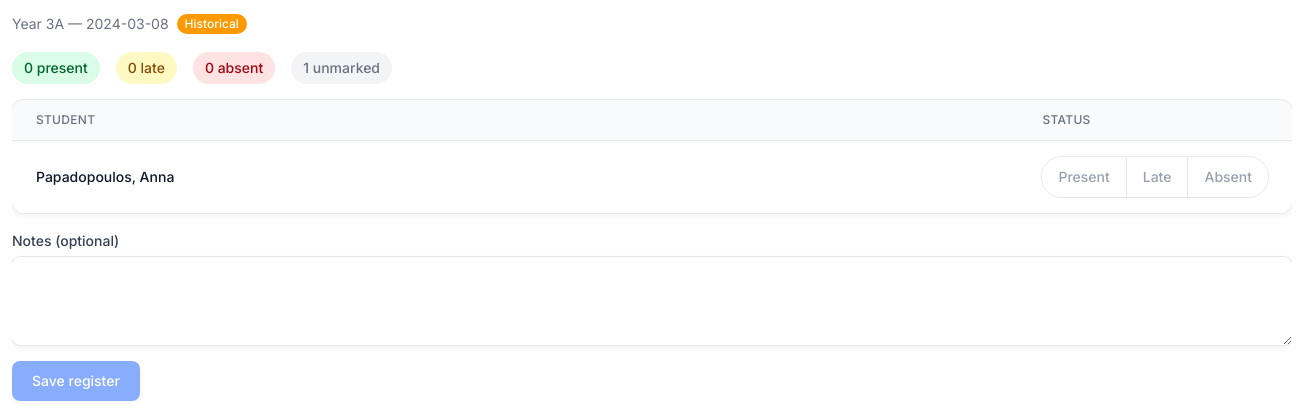
AttendanceForm › updates summary counts when status is toggled
Check: the text "1 unmarked" is shown, box [291,52,392,84]
Click the button "Absent": click(1228, 177) [1188,157,1268,197]
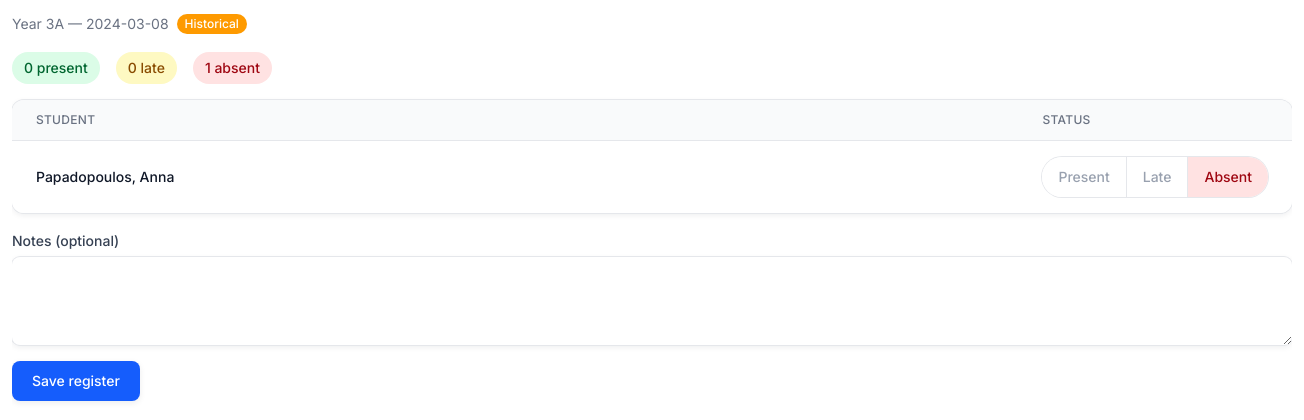
Check: the text "0 present" is shown, box [12,52,100,84]
Check: the text "1 absent" is shown, box [193,52,272,84]
